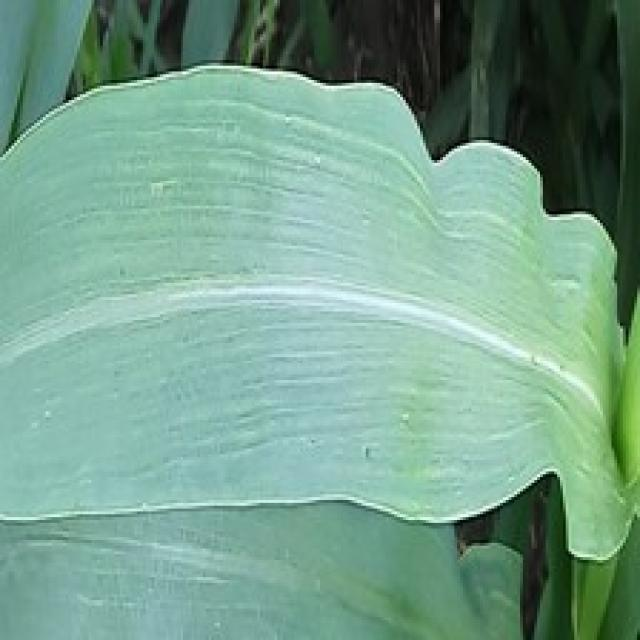Corn: (0, 57, 637, 563), (0, 520, 523, 640)
